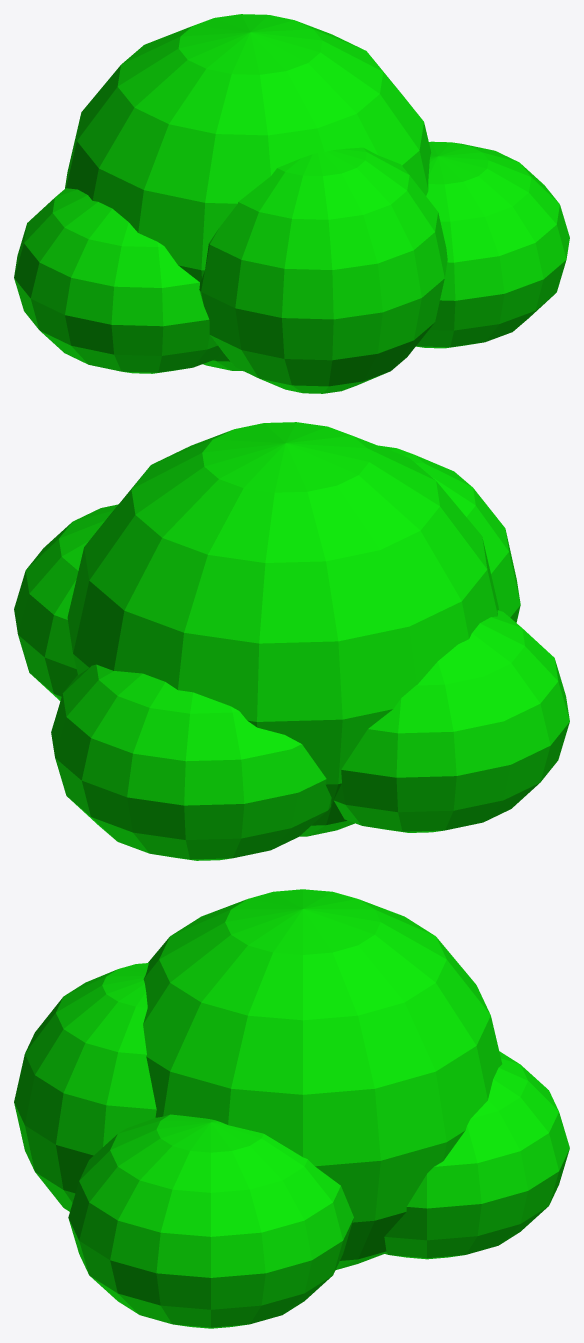
Rendered from bush.fbx.
The picture shows the model from 3 angles, top to bottom: view 1: azimuth 30°, elevation 25°; view 2: azimuth 150°, elevation 25°; view 3: azimuth 270°, elevation 25°; orthographic projection. The views are drawn at different scales.
Parts seen in each view (by area): view 1: Sphere, Sphere.003, Sphere.001, Sphere.002; view 2: Sphere, Sphere.004, Sphere.001, Sphere.002, Sphere.003; view 3: Sphere, Sphere.002, Sphere.003, Sphere.004.
Part boxes in pixels (x1,y1,x2,y2): Sphere: [65, 14, 431, 371]; Sphere.003: [199, 147, 447, 393]; Sphere.001: [14, 188, 222, 373]; Sphere.002: [416, 141, 569, 348]; Sphere: [67, 422, 498, 836]; Sphere.004: [51, 664, 331, 860]; Sphere.001: [333, 610, 569, 832]; Sphere.002: [14, 504, 118, 700]; Sphere.003: [379, 445, 520, 622]; Sphere: [143, 889, 502, 1269]; Sphere.002: [68, 1114, 353, 1328]; Sphere.003: [14, 963, 156, 1211]; Sphere.004: [383, 1051, 569, 1259].
Bounding box in the file's own units: 420 × 266 × 389.
